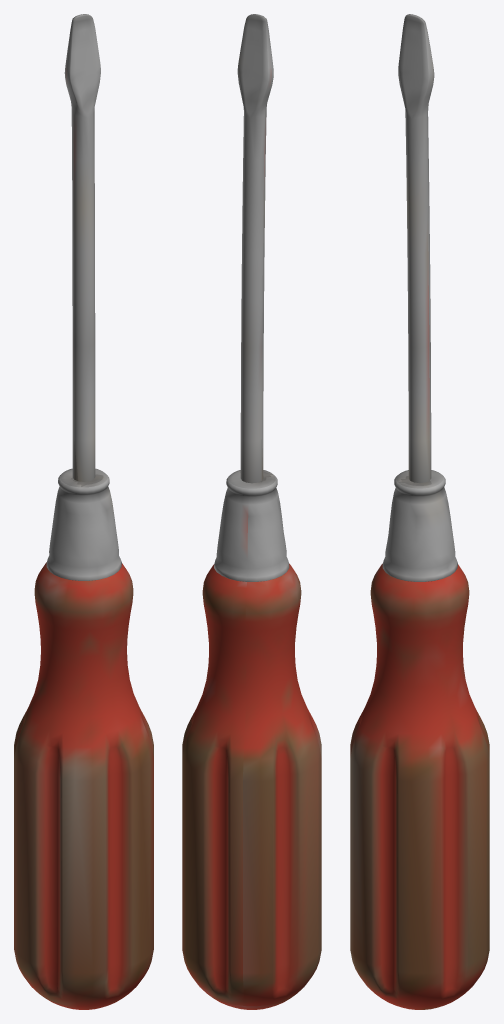
Rendered from screwdriver-lite.glb.
3 renders of one model, left to right at view 1: azimuth 30°, elevation 25°; view 2: azimuth 150°, elevation 25°; view 3: azimuth 330°, elevation 25°, orthographic.
Visible parts, largest first — view 1: screwdriver; view 2: screwdriver; view 3: screwdriver.
Part boxes in pixels (x1=…): screwdriver: x1=14, y1=14, x2=153, y2=1009; screwdriver: x1=182, y1=14, x2=321, y2=1009; screwdriver: x1=350, y1=14, x2=489, y2=1009.
Size of the model in its own units: 0.0271 by 0.209 by 0.0267.
